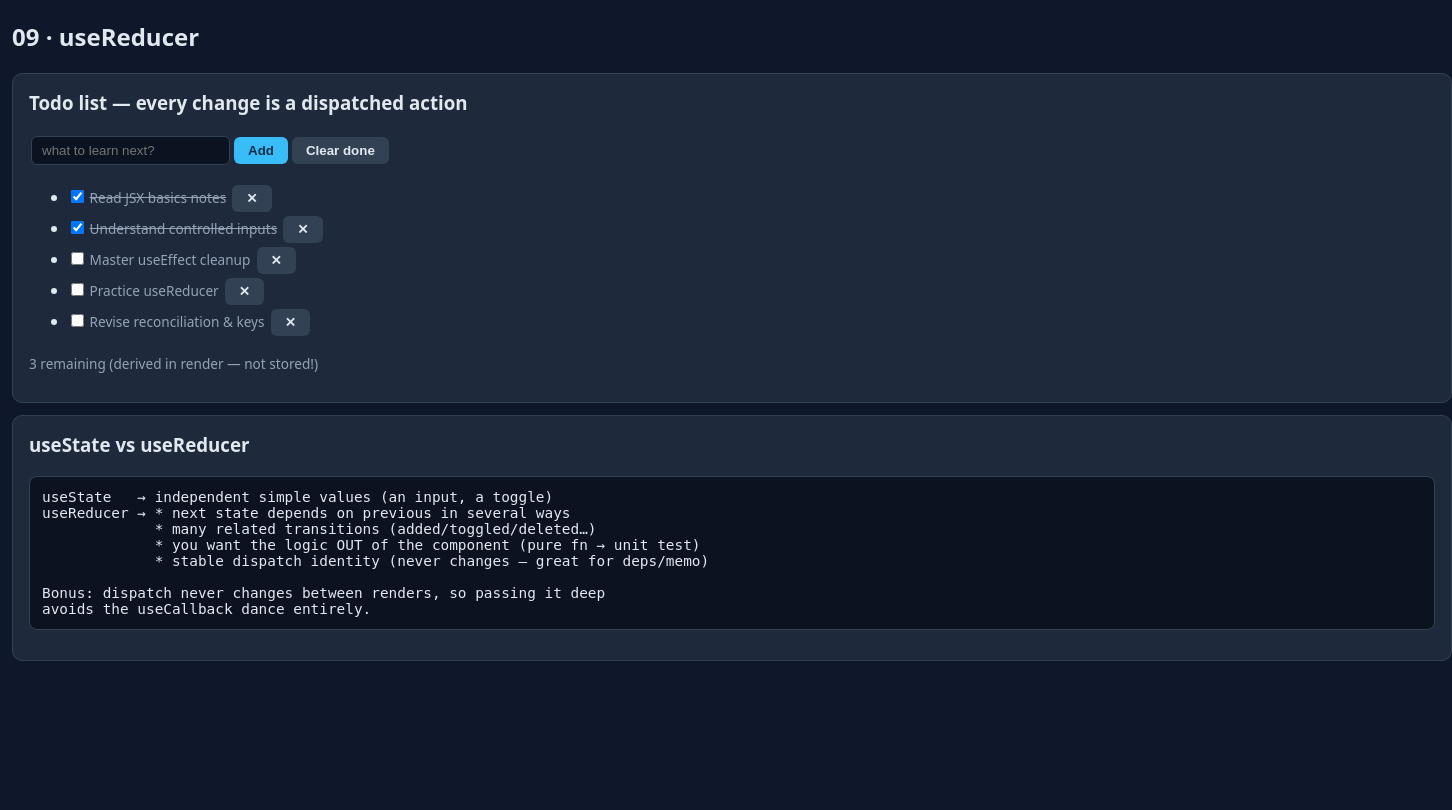
Test: ReducerDemo todo list (concept 09) › toggling a todo strikes it through and updates the remaining count
Check: the text "3 remaining (derived in render — not stored!)" is shown, box 29,354 -> 318,372
Click the checkbox labelled "Master useEffect cleanup". click: (78, 258)
box: 71,252 -> 84,264
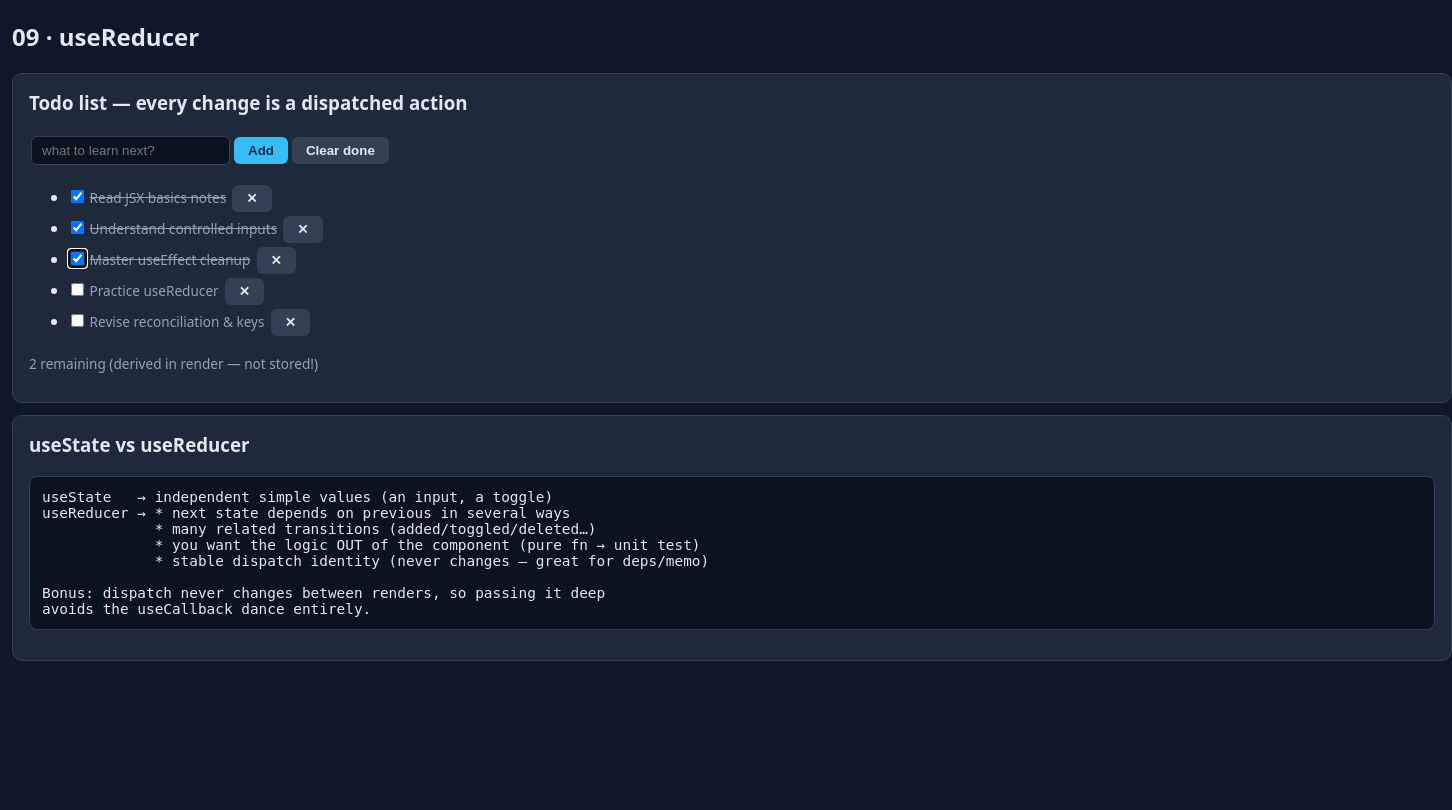
Check: the text "2 remaining (derived in render — not stored!)" is shown, box 29,354 -> 318,372
